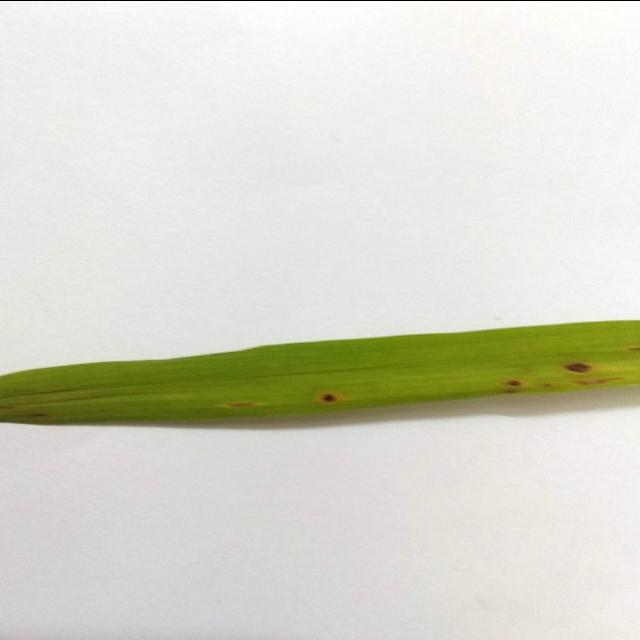Brown spot: (0, 313, 640, 436)
